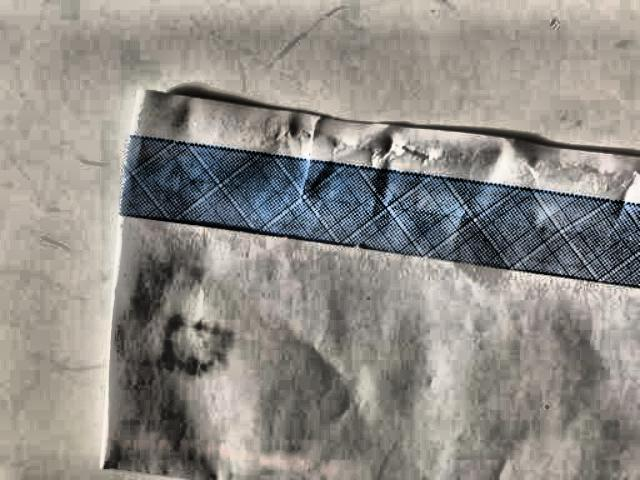Paper: (86, 73, 640, 480)
